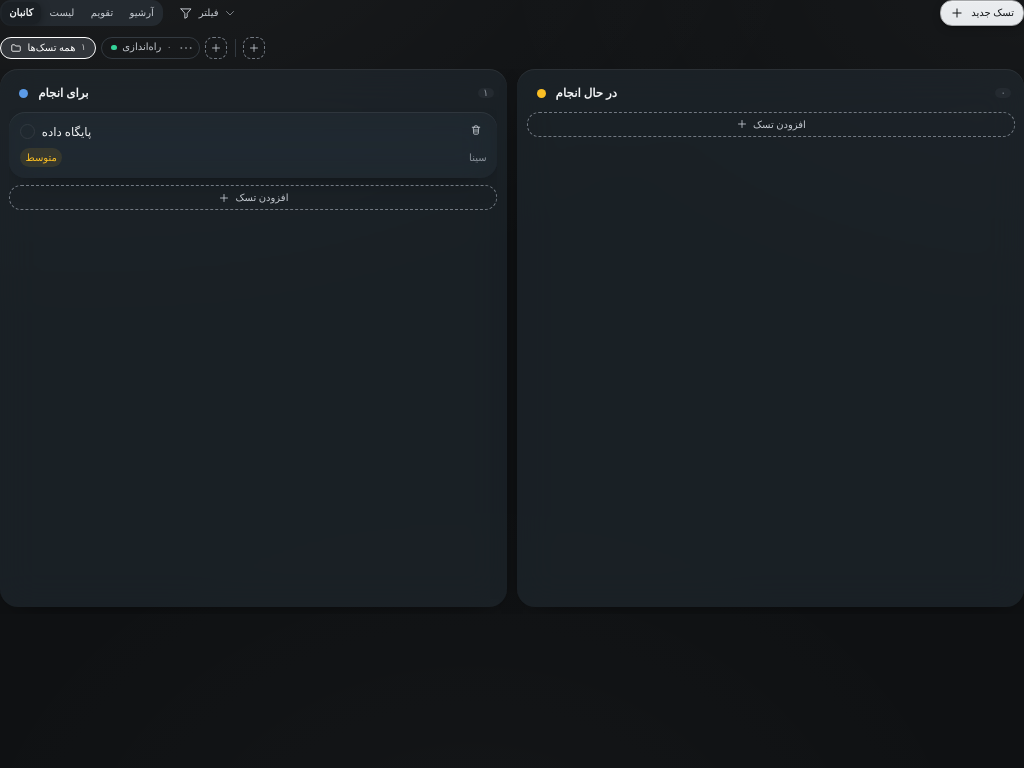
Scenario: TaskBoard › names the assignee in the detail, before anyone opens the picker
Click the text "پایگاه داده": coordinates (66, 132) [42, 124, 91, 138]
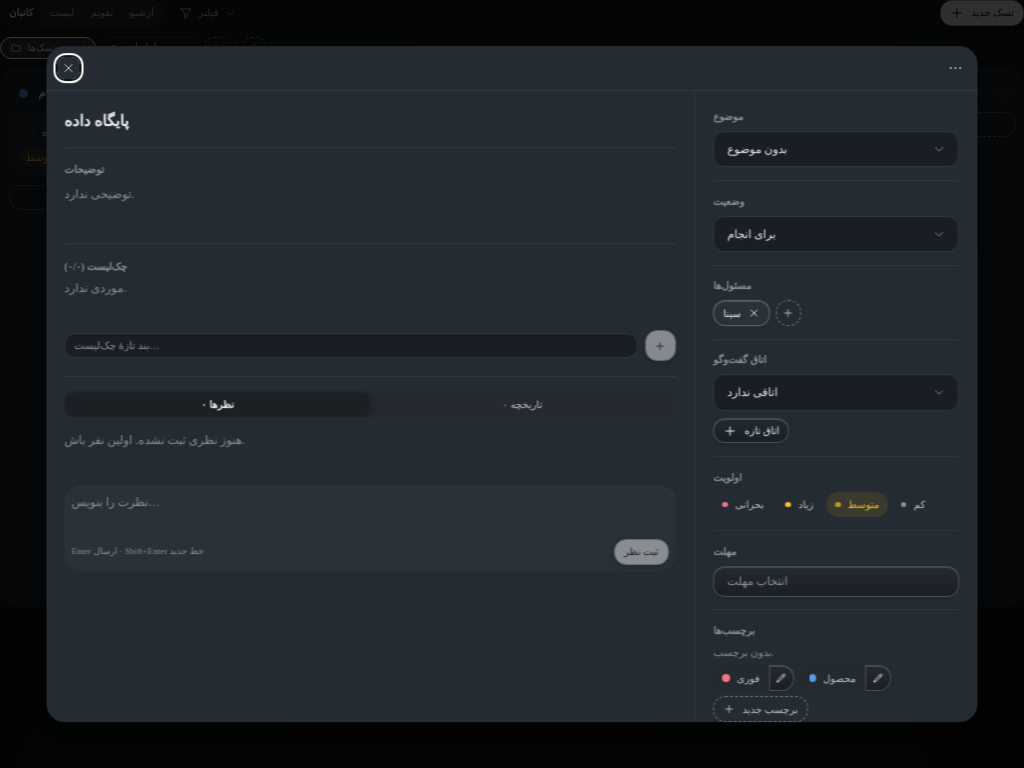
Result: the button titled "حذف سینا" is shown at [714, 300, 771, 326]
